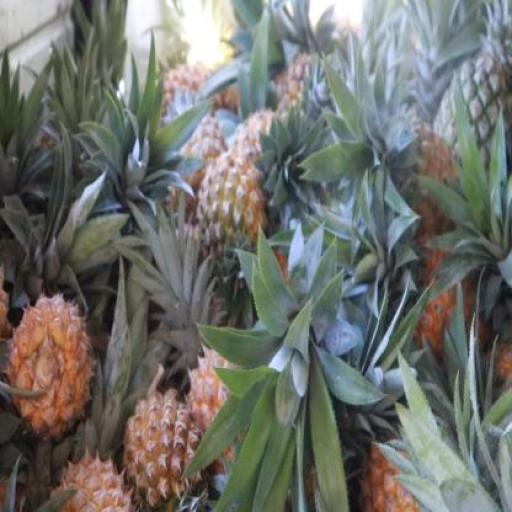------------------------------: (196, 155, 263, 288)
Pineapple - v8 v1: (13, 298, 92, 432), (122, 389, 199, 512)
